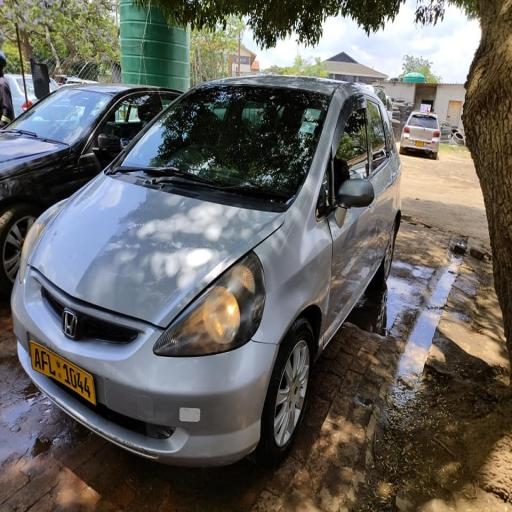number-plates: (27, 338, 97, 402)
